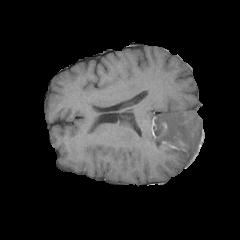glioma: (148, 108, 203, 169)
